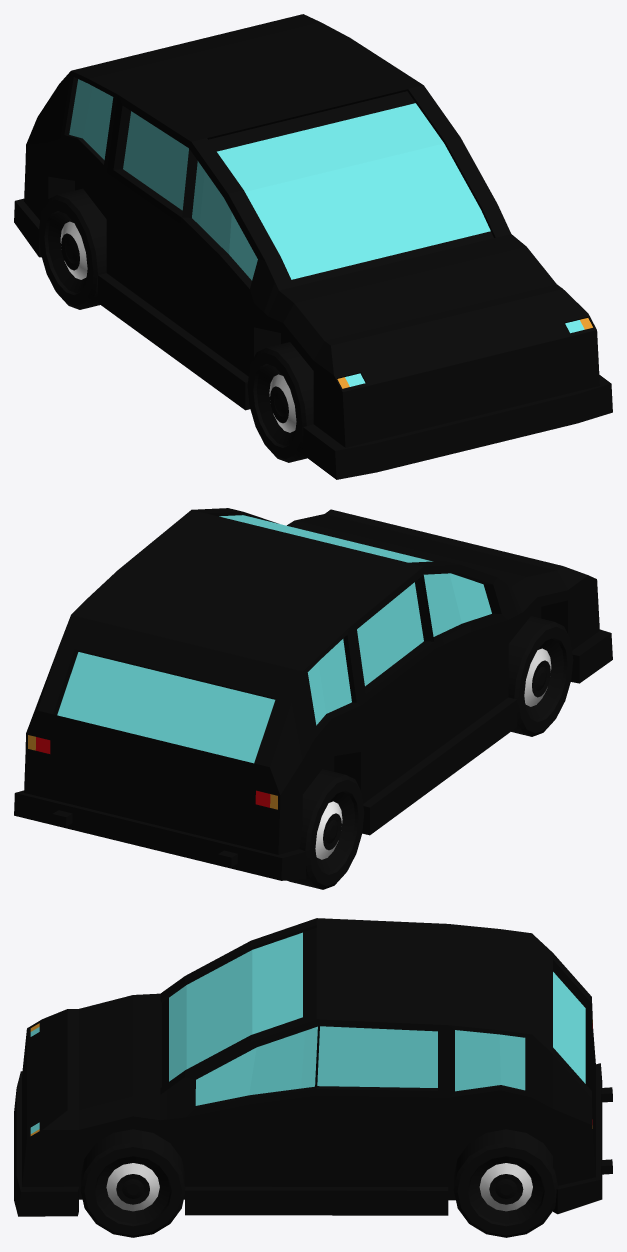
Rendered from FordSS.fbx.
3 views of the same model, one above another, from view 1: azimuth 30°, elevation 25°; view 2: azimuth 150°, elevation 25°; view 3: azimuth 270°, elevation 25° (orthographic). The views are drawn at different scales.
Visible parts, largest first — view 1: Ford Focus, Left_front_wheel.001, Left_front_wheel; view 2: Ford Focus, Left_front_wheel, Left_front_wheel.001; view 3: Ford Focus, Left_front_wheel.002, Left_front_wheel.003.
Boxes of the visible parts, x1,y1,x2,y2 form: Ford Focus: (14,14,612,479); Left_front_wheel.001: (38,188,106,309); Left_front_wheel: (247,342,313,462); Ford Focus: (14,508,612,880); Left_front_wheel: (508,616,573,736); Left_front_wheel.001: (287,769,364,889); Ford Focus: (14,918,612,1216); Left_front_wheel.002: (80,1129,185,1237); Left_front_wheel.003: (453,1129,558,1237).
Size of the model in its own units: 2.04 by 1.67 by 4.28.
